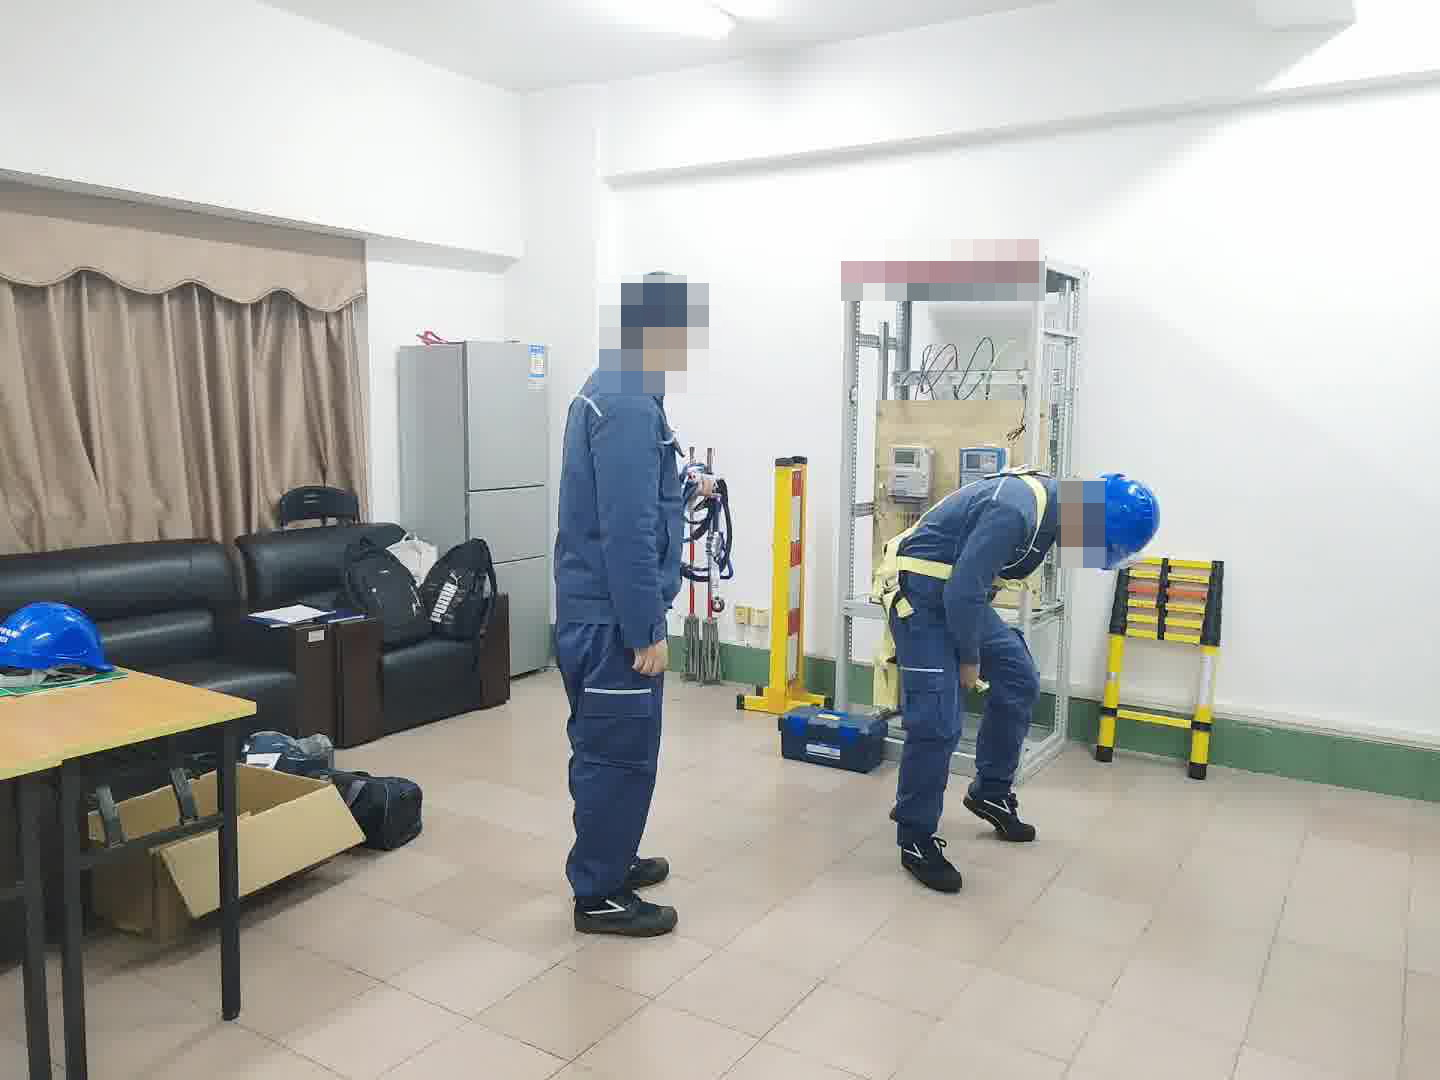downsuit: (890, 600, 1038, 838), (554, 633, 667, 898)
halt: (1058, 470, 1163, 573)
hand: (630, 634, 670, 684)
inear: (1060, 495, 1097, 539)
noear: (649, 307, 683, 361)
person: (888, 457, 1162, 884), (545, 266, 713, 932)
safebelt: (860, 462, 1045, 722)
unhalt: (614, 269, 705, 374)
upsuit: (551, 355, 684, 621), (898, 470, 1059, 584)
